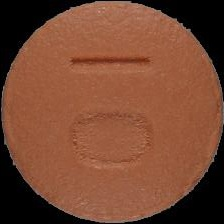33261-026: (0, 0, 224, 224)
